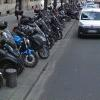Motorcycle: (9, 13, 57, 67)
